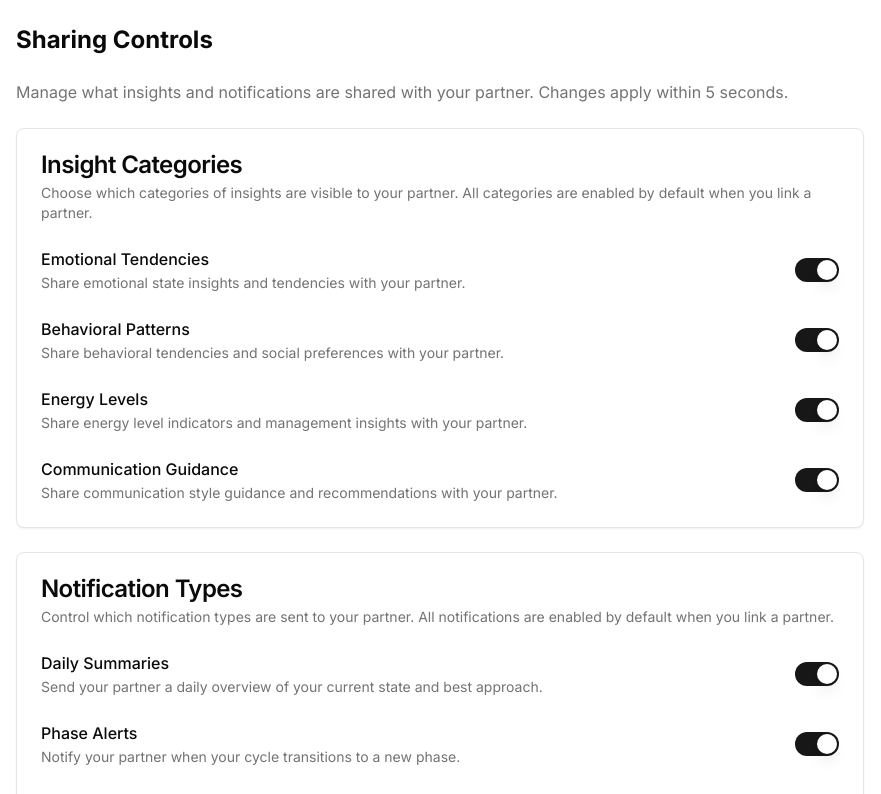
Test: SharingControlsPage › shows success status after toggling a notification
Expected: the heading "Notification Types" is shown, [41,574,242,603]
Click the switch named "toggle phase alerts".
click(817, 744)  # box [795,732,839,756]
(page scrolled)
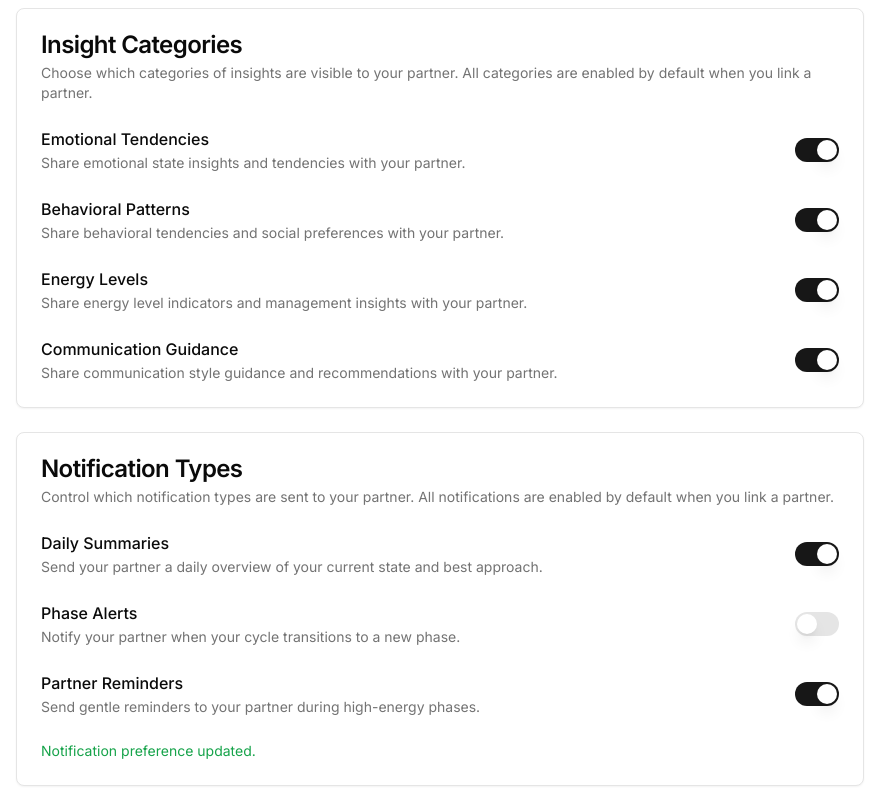
Expected: the message with test id "notification-status" reads "Notification preference updated.", [41,742,256,759]
